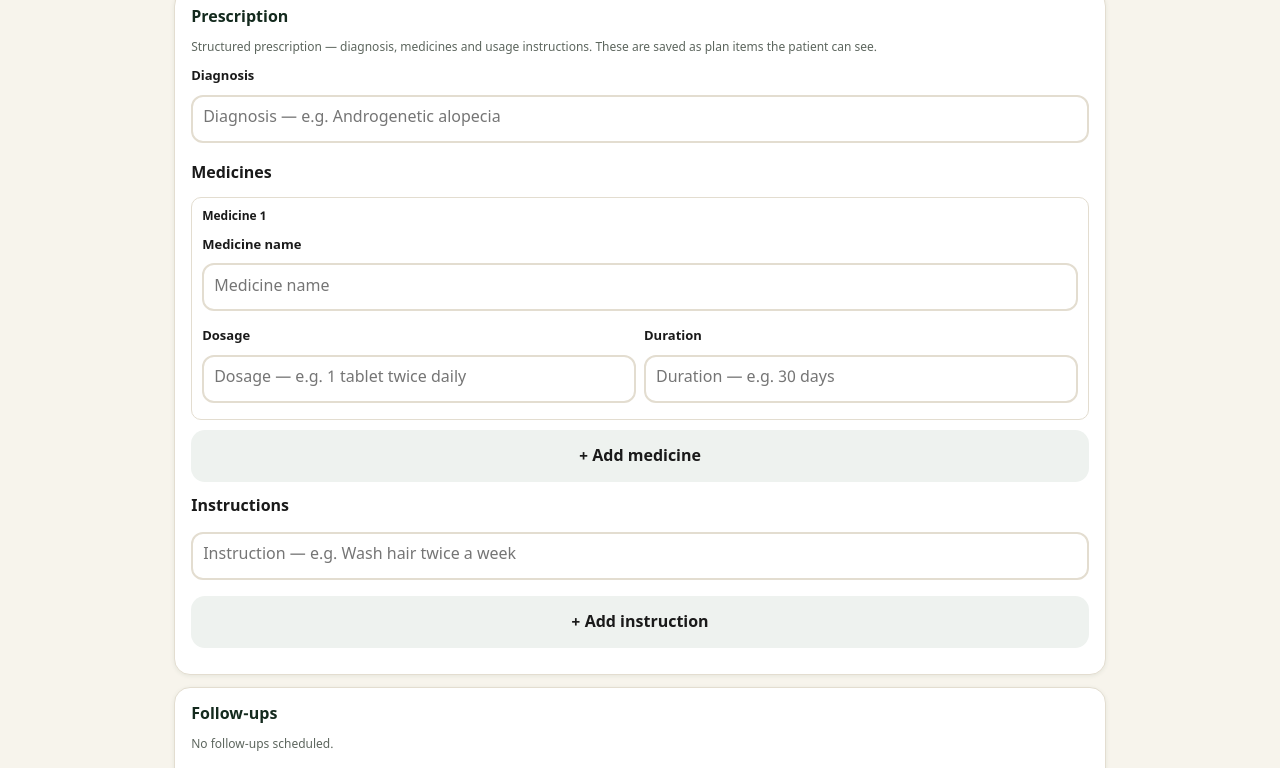
DoctorCase — structured prescription › blocks submit when a medicine row has dosage but no name
(page scrolled)
Check: the heading "Prescription" is shown, box [191,8,288,29]
Step 1. Type "1 tablet daily" into the field with placeholder "Dosage — e.g. 1 tablet twice daily" → (419, 378), box [202,354,636,402]
(page scrolled)
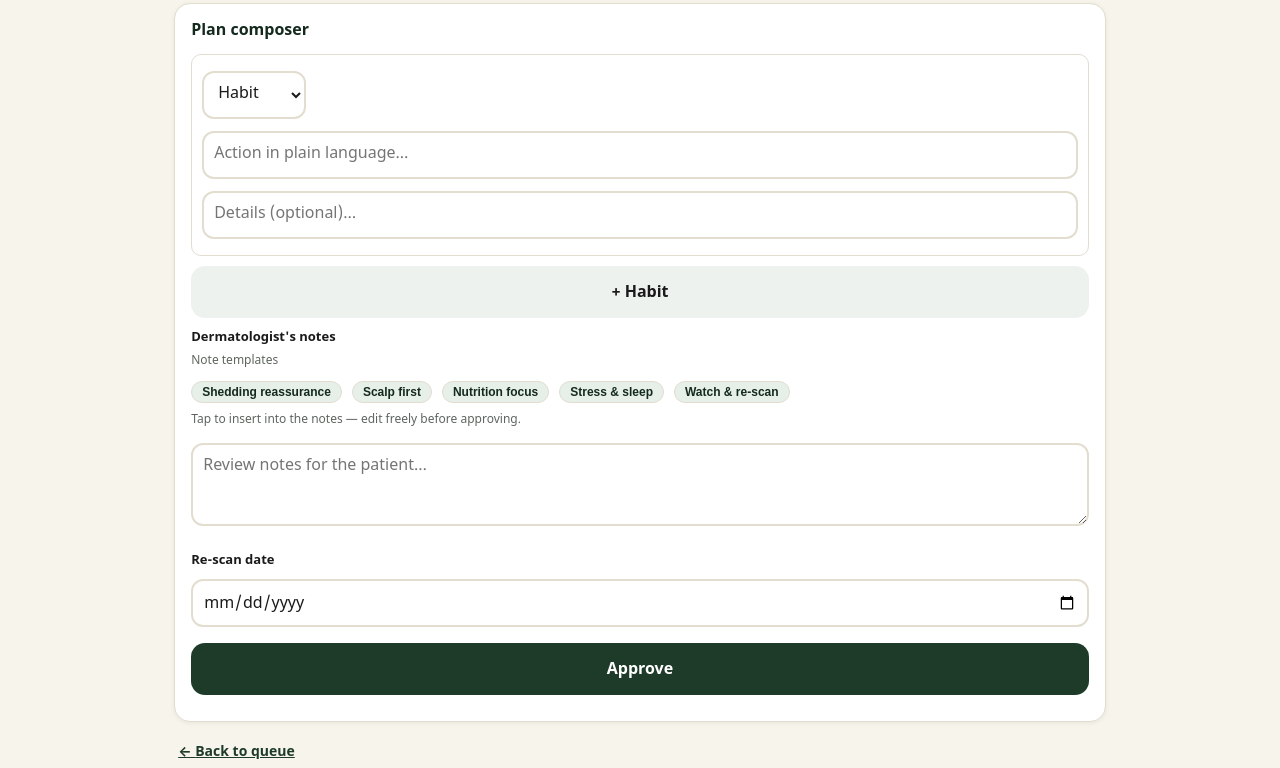
Step 2. Click the button "Approve" → (640, 668), box [191,642,1089,694]
(page scrolled)
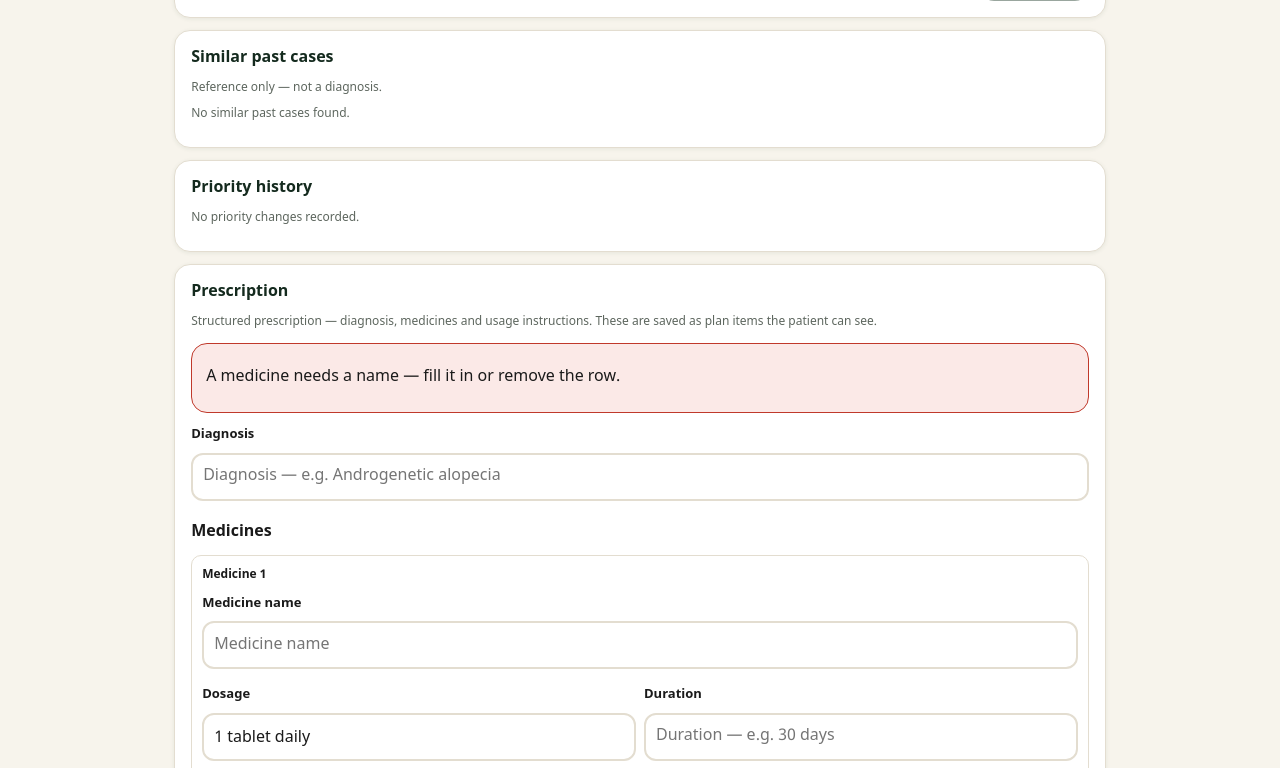
Check: the text "A medicine needs a name — fill it in or remove the row." is shown, box [206,367,620,388]
